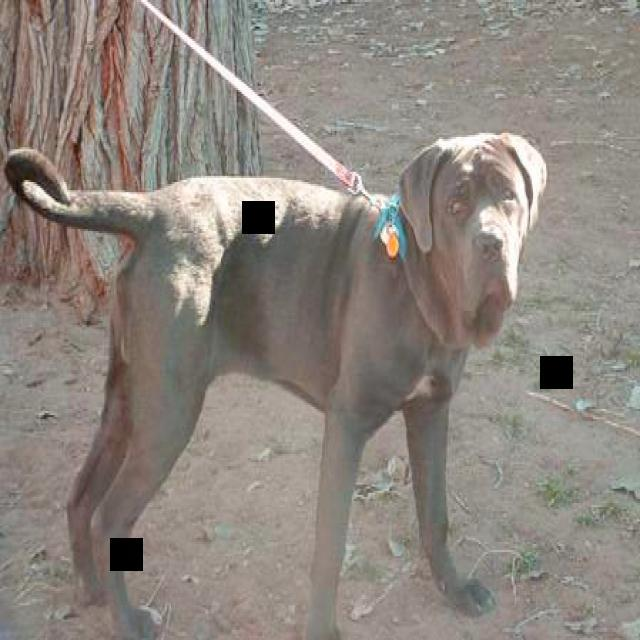adult_dog: (7, 125, 549, 640)
